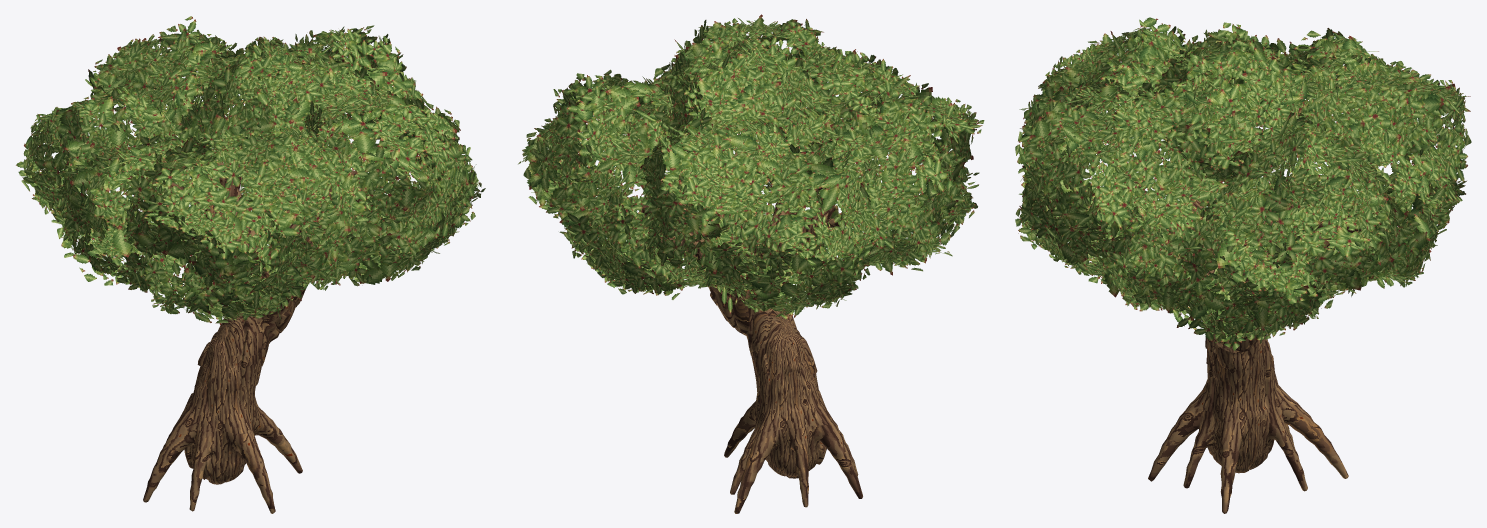
The model's file is macieira_anterior_LOD_C.glb.
The picture shows the model from 3 angles, left to right: view 1: azimuth 30°, elevation 25°; view 2: azimuth 150°, elevation 25°; view 3: azimuth 270°, elevation 25°; orthographic projection. The views are drawn at different scales.
Parts seen in each view (by area): view 1: macieira_inclinada; view 2: macieira_inclinada; view 3: macieira_inclinada.
Part boxes in pixels (x1,y1,x2,y2): macieira_inclinada: [16, 16, 485, 513]; macieira_inclinada: [518, 14, 984, 513]; macieira_inclinada: [1015, 17, 1471, 513].
Size of the model in its own units: 5.96 by 6.23 by 5.6.
Materials: 2 (2 with a texture image).
